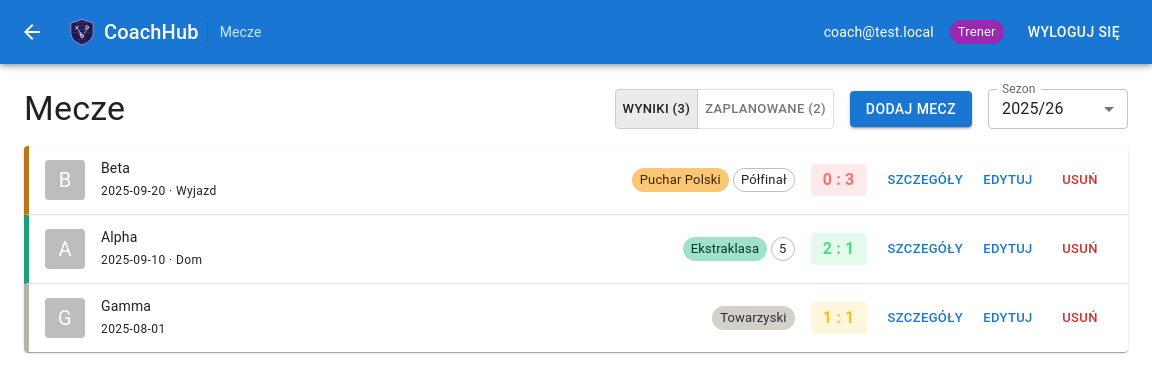
matches list › switches between seasons, newest first in the selector
The width and height of the screenshot is (1152, 371).
Check: the text "Alpha" is shown, box [101,229,138,245]
Click the dropdown named "Sezon". click: (1033, 109)
box: [1002,100,1064,118]
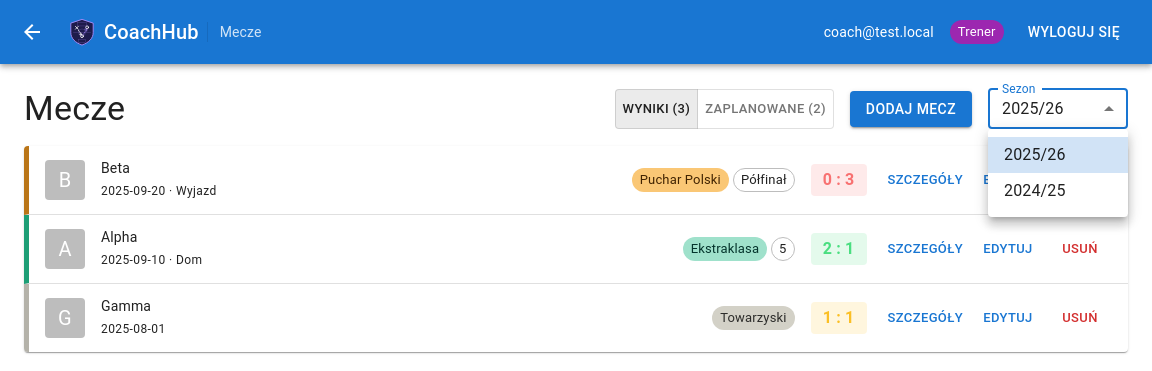
Check: the options read "2025/26", "2024/25", in this order
Click the option "2024/25". click: (1035, 190)
box: [1004,181,1066,200]
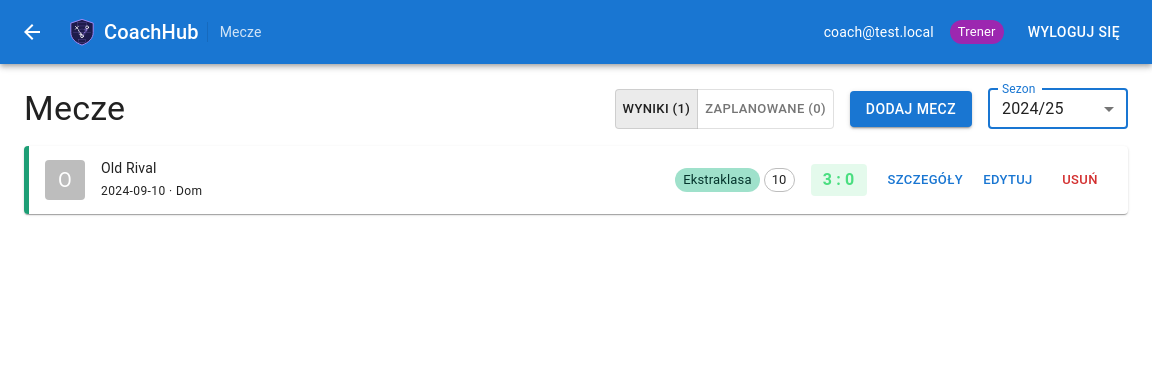
Check: the button "Wyniki (1)" is shown, box [615,89,698,129]
